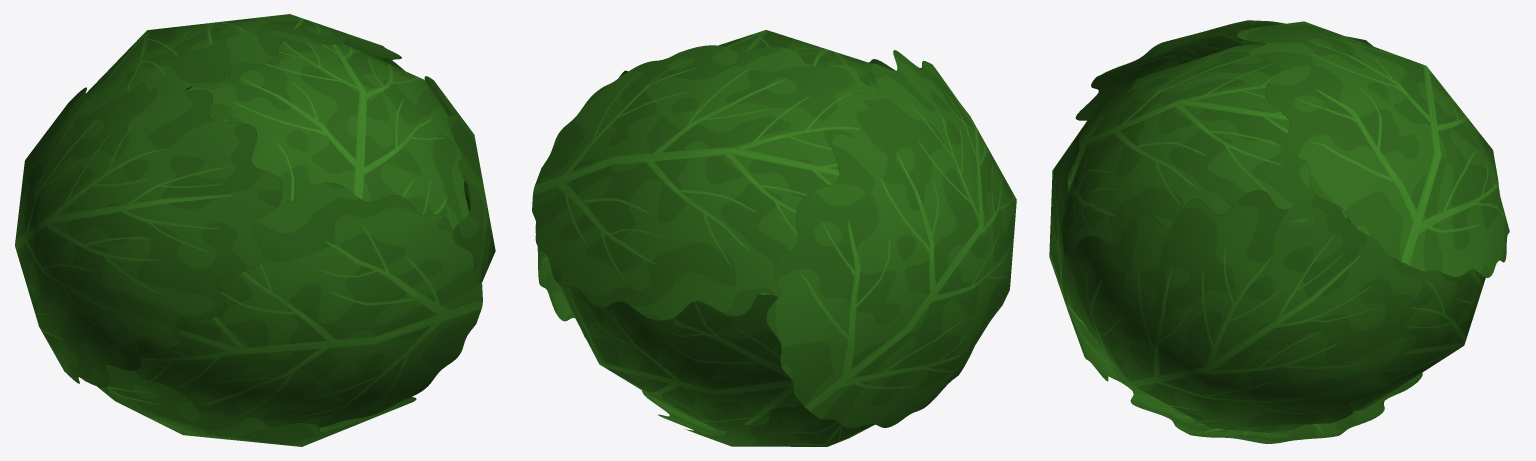
File: Cabbage01.fbx
3 views of the same model, side by side, from view 1: azimuth 30°, elevation 25°; view 2: azimuth 150°, elevation 25°; view 3: azimuth 270°, elevation 25° (orthographic). The views are drawn at different scales.
Parts seen in each view (by area): view 1: Cabbage01_LOD0; view 2: Cabbage01_LOD0; view 3: Cabbage01_LOD0.
Boxes of the visible parts, box(x1,y1,x2,y2) form: Cabbage01_LOD0: box(15, 14, 495, 446); Cabbage01_LOD0: box(532, 30, 1016, 446); Cabbage01_LOD0: box(1049, 20, 1509, 443).
Size of what is drawn, in the model's own units: 33.2 by 29.35 by 33.12.
